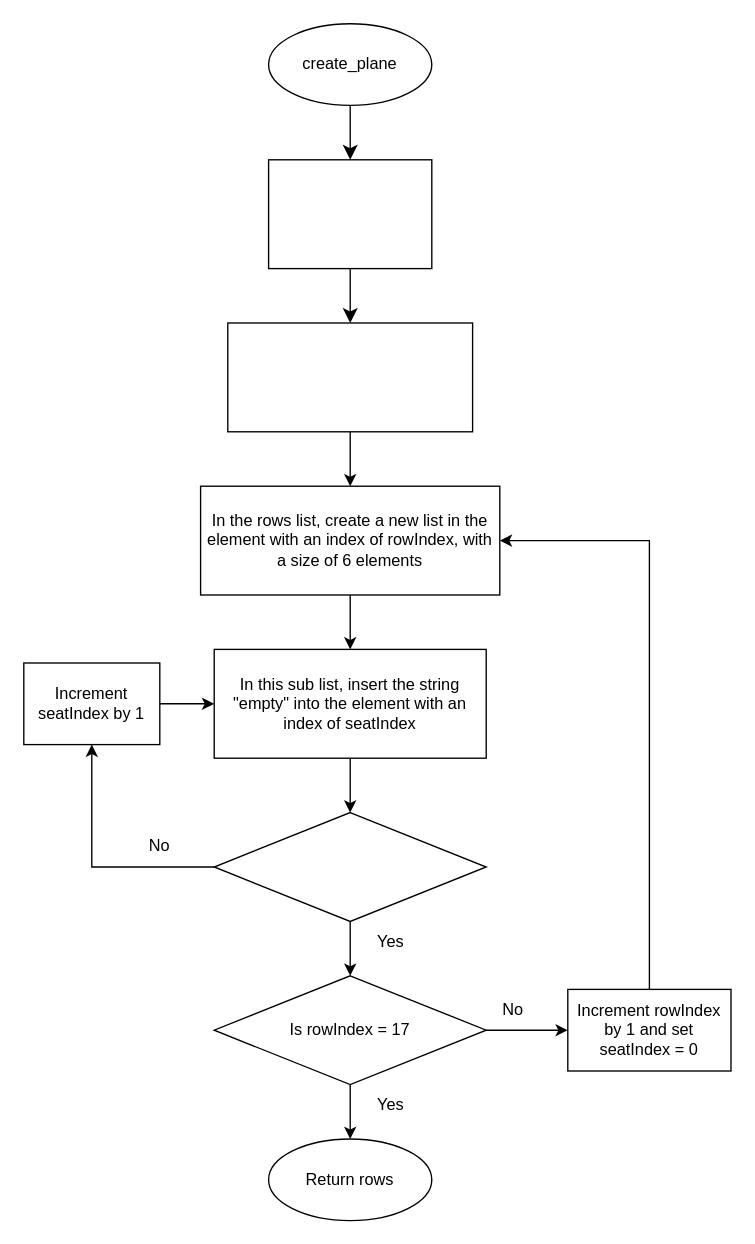
Image size: 755x1244. Some labels were removed from this diagram. Each missing label, with the box of its shape:
Assign the value 0 to the new variables rowIndex and seatIndex: (226, 322, 473, 432)
Create a list called rows containing 18 elements: (267, 158, 432, 269)
Is seatIndex = 5: (213, 811, 486, 921)
